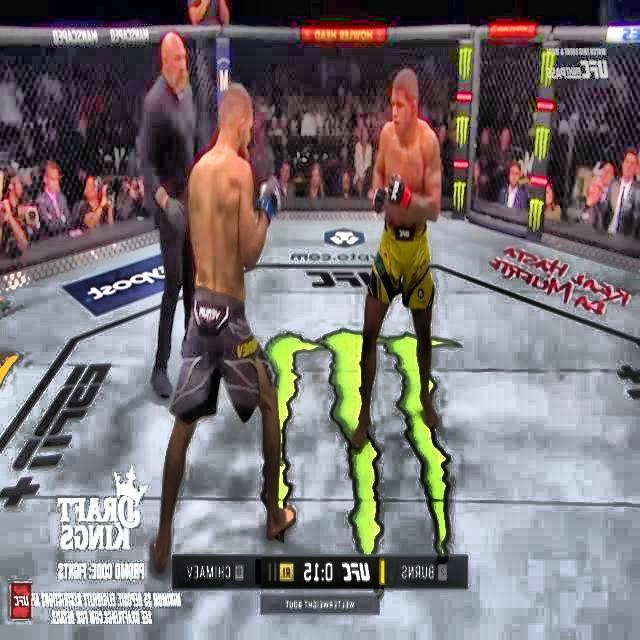kick-knee: (391, 68, 422, 174)
low-guard: (146, 87, 288, 563), (350, 68, 444, 436), (137, 29, 202, 397)
